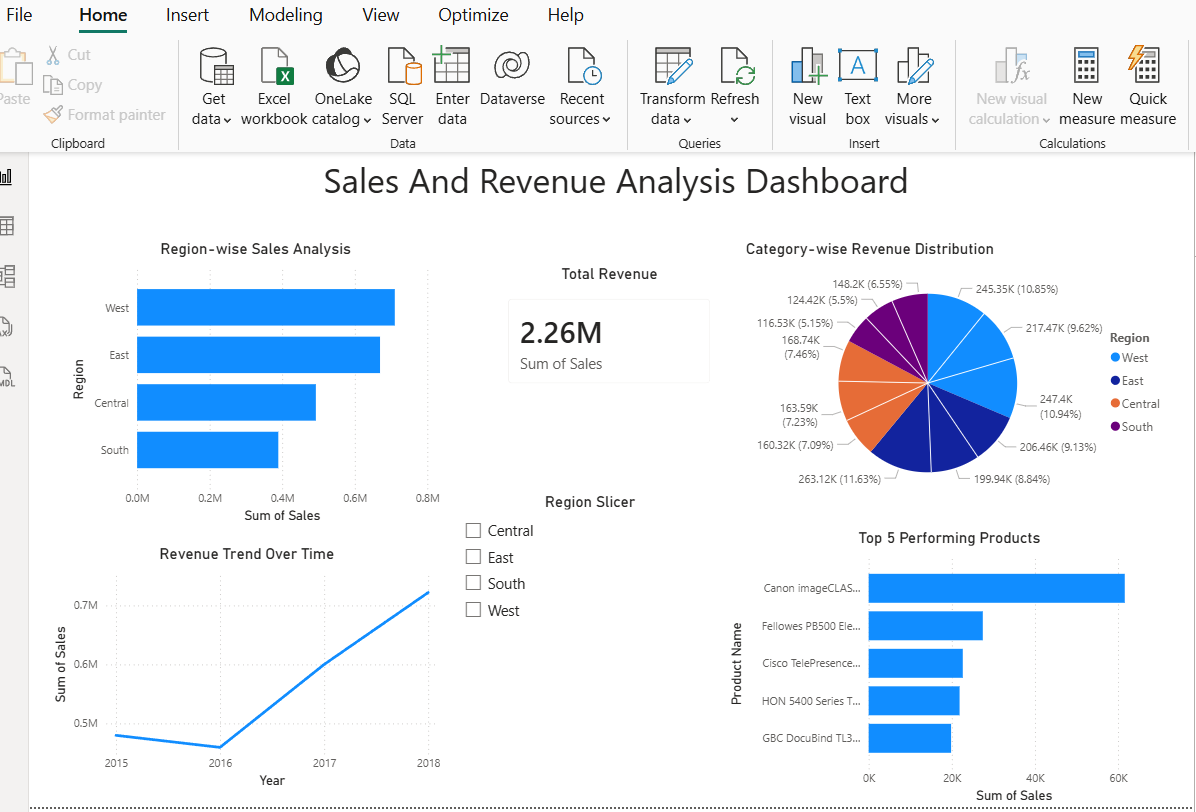

The dashboard page shown, as its layout file describes it:
{"tool":"powerbi","page":{"name":"Page 1","canvas":[1280,720],"ordinal":0},"visuals":[{"type":"pieChart","title":"Category-wise Revenue Distribution","fields":{"Category":["cleaned_sales_data.Region"],"Y":["Sum(cleaned_sales_data.Sales)"],"Series":["cleaned_sales_data.Category"]},"box":[783.5,96.1,474.8,295],"z":0},{"type":"clusteredBarChart","title":"Region-wise Sales Analysis","fields":{"Y":["Sum(cleaned_sales_data.Sales)"],"Category":["cleaned_sales_data.Region"]},"box":[41.2,96.1,415.8,317],"z":1},{"type":"slicer","title":"Region Slicer","fields":{"Values":["cleaned_sales_data.Region"]},"box":[466.6,373.2,299.1,251.1],"z":2},{"type":"textbox","box":[318.4,0,839.8,83.7],"z":3},{"type":"cardVisual","title":"Total Revenue","fields":{"Data":["Sum(cleaned_sales_data.Sales)"]},"box":[509.1,123.5,256.6,148.2],"z":4},{"type":"lineChart","title":"Revenue Trend Over Time","fields":{"Category":["cleaned_sales_data.Order Date.Variation.Date Hierarchy.Year","cleaned_sales_data.Order Date.Variation.Date Hierarchy.Quarter","cleaned_sales_data.Order Date.Variation.Date Hierarchy.Month","cleaned_sales_data.Order Date.Variation.Date Hierarchy.Day"],"Y":["Sum(cleaned_sales_data.Sales)"]},"box":[22,430.9,435,273.1],"z":5},{"type":"clusteredBarChart","title":"Top 5 Performing Products","fields":{"Category":["cleaned_sales_data.Product Name"],"Y":["Sum(cleaned_sales_data.Sales)"]},"box":[765.7,413,492.6,307.4],"z":6}]}

Visuals, with their boxes on the page's 1280x720 design canvas (x1, y1, x2, y2). These are canvas units, not pixel positions in the 1196x812 screenshot, which may show the page scaled, cropped or inside an application window:
"Category-wise Revenue Distribution" pieChart: l=784, t=96, r=1258, b=391
"Region-wise Sales Analysis" clusteredBarChart: l=41, t=96, r=457, b=413
"Region Slicer" slicer: l=467, t=373, r=766, b=624
textbox: l=318, t=0, r=1158, b=84
"Total Revenue" cardVisual: l=509, t=124, r=766, b=272
"Revenue Trend Over Time" lineChart: l=22, t=431, r=457, b=704
"Top 5 Performing Products" clusteredBarChart: l=766, t=413, r=1258, b=720
